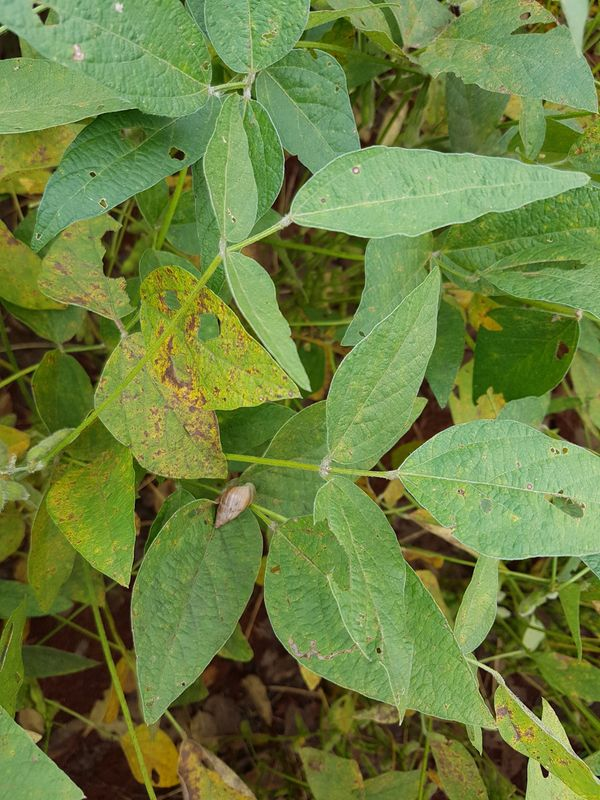Gastropoda: (207, 478, 261, 533)
